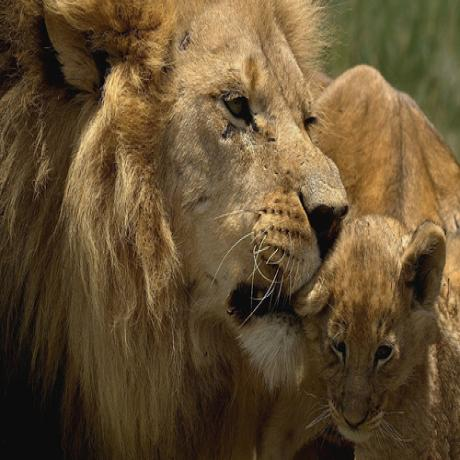Lion: (0, 0, 356, 460), (311, 212, 459, 460)
